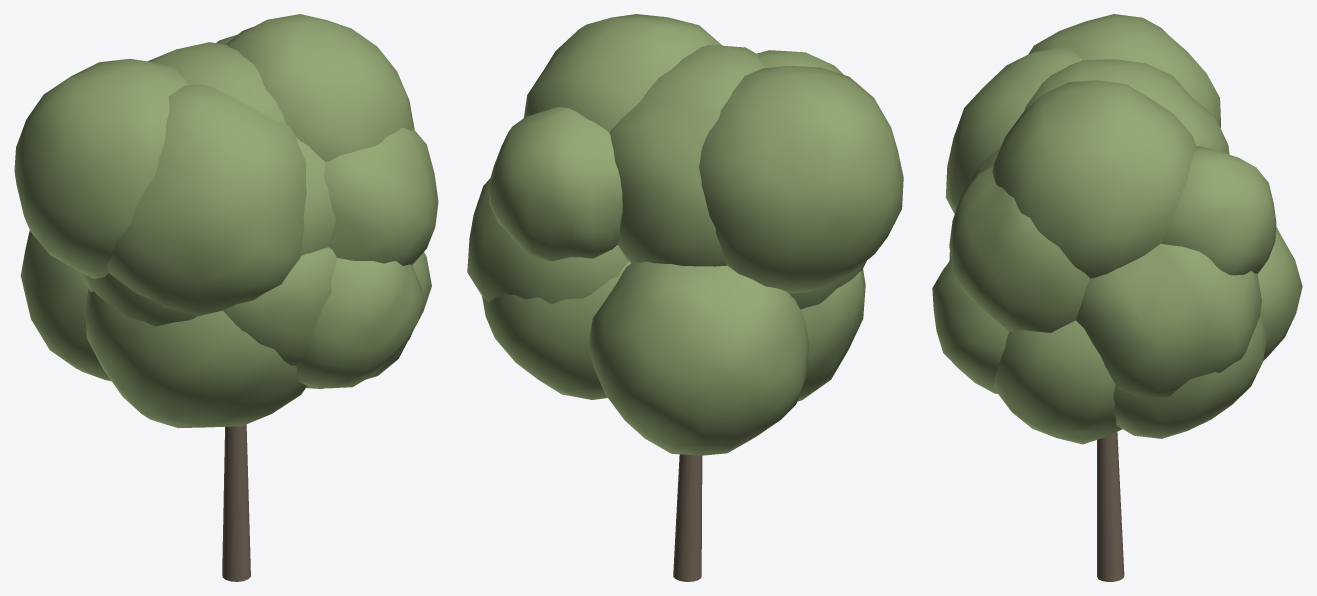
Rendered from NPR_07_0021__MOD__VegetationElements__Trees__MatureOak__Var-01__.glb.
3 renders of one model, left to right at view 1: azimuth 30°, elevation 25°; view 2: azimuth 150°, elevation 25°; view 3: azimuth 270°, elevation 25°, orthographic. The views are drawn at different scales.
Parts seen in each view (by area): view 1: NPR_07_0021__MOD__VegetationElements__Trees__MatureOak__Var-; view 2: NPR_07_0021__MOD__VegetationElements__Trees__MatureOak__Var-; view 3: NPR_07_0021__MOD__VegetationElements__Trees__MatureOak__Var-.
Boxes of the visible parts, <box> form: NPR_07_0021__MOD__VegetationElements__Trees__MatureOak__Var-: <box>14,14,438,581</box>; NPR_07_0021__MOD__VegetationElements__Trees__MatureOak__Var-: <box>467,14,903,581</box>; NPR_07_0021__MOD__VegetationElements__Trees__MatureOak__Var-: <box>932,14,1302,581</box>.
Size of the model in its own units: 6.82 by 9.01 by 5.91.
